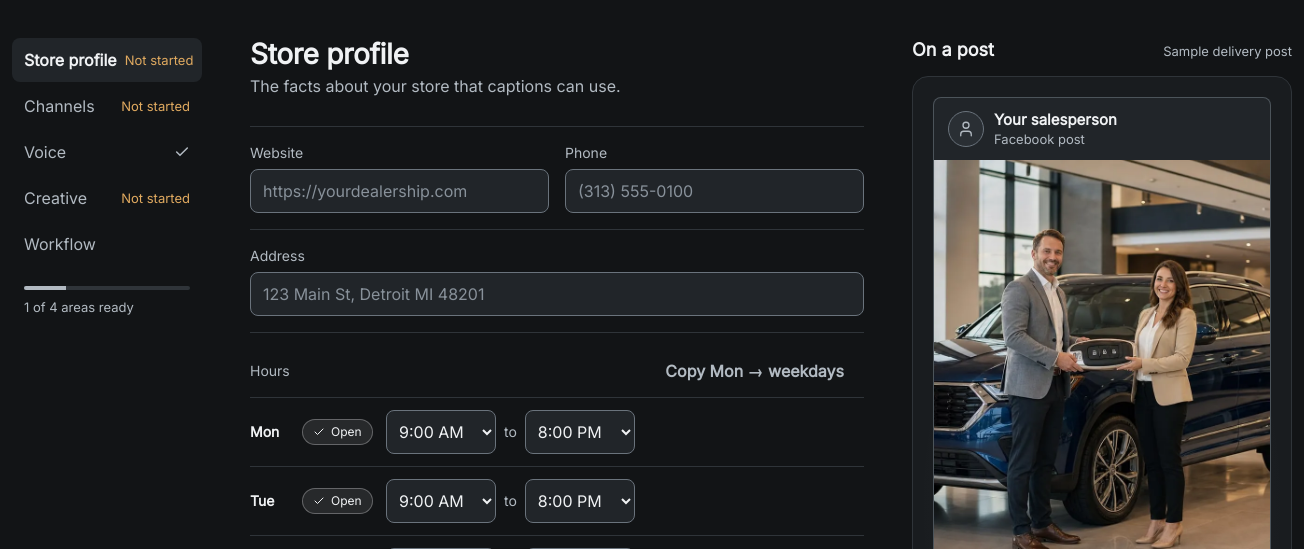
Scenario: dealer Brand section › explains channels by post type in plain words
(page scrolled)
Click the button "Workflow".
click(107, 244)  # box [12, 222, 202, 266]
(page scrolled)
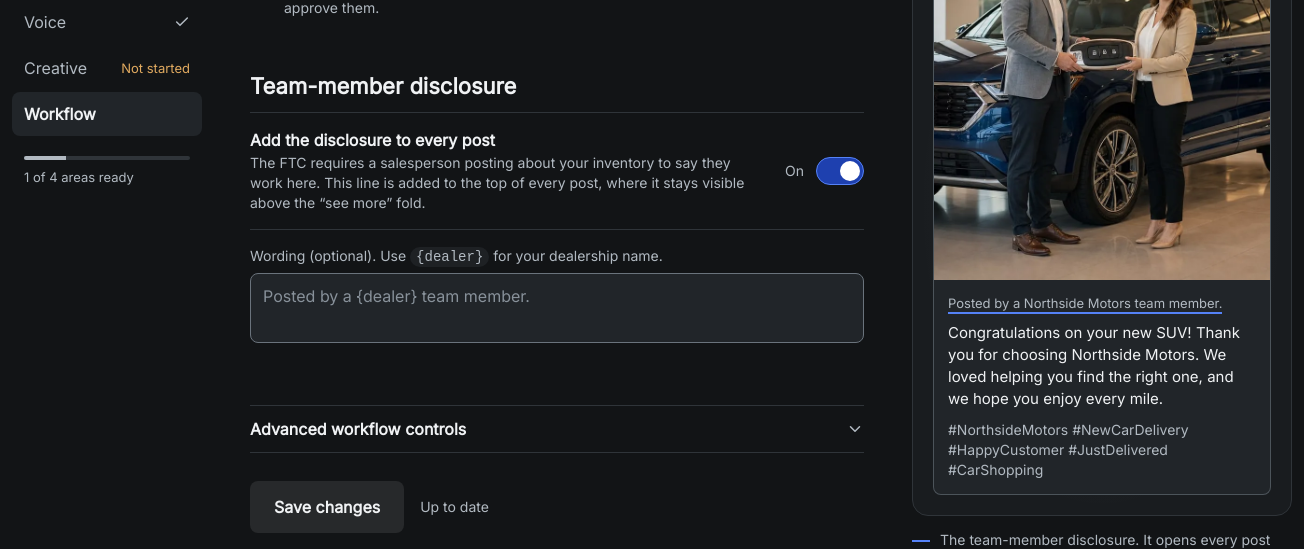
Click the button "Advanced workflow controls".
click(358, 429)  # box [250, 405, 864, 453]
(page scrolled)
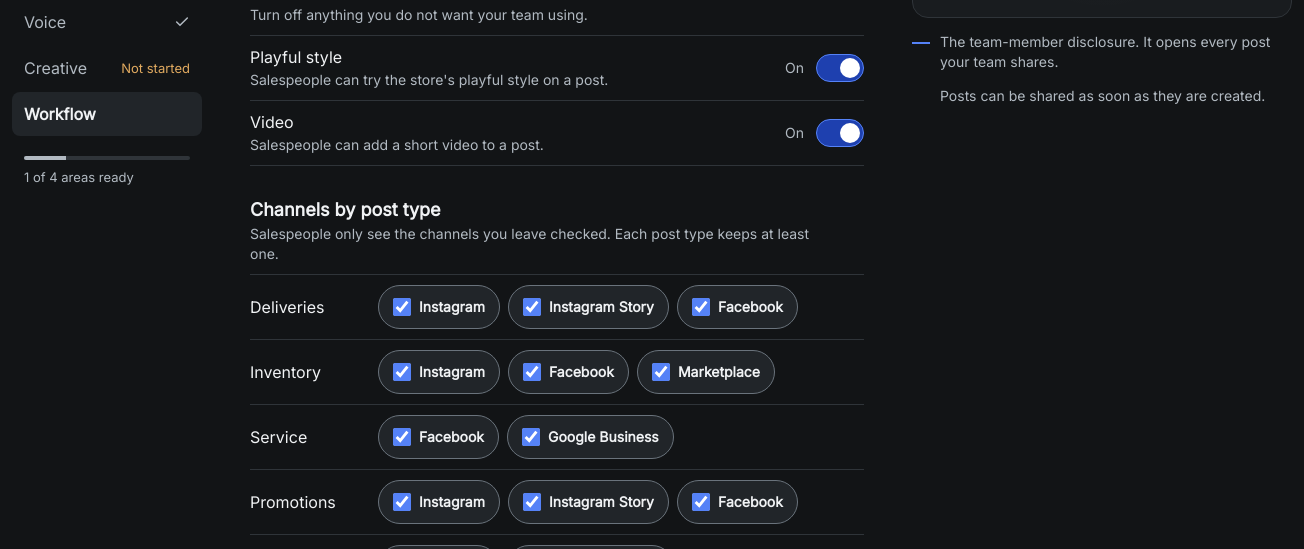
Check: the text "Salespeople only see the channels you leave checked." is shown, box [250, 225, 809, 262]
